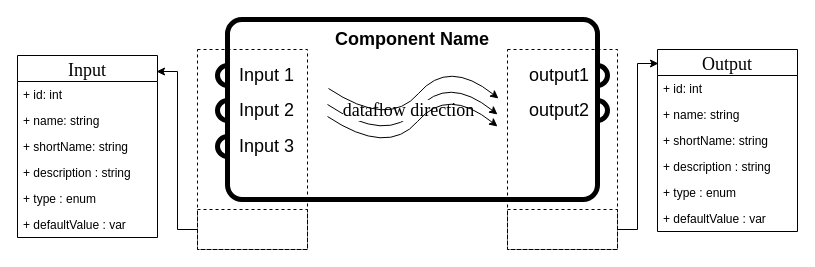
Image size: 815x267. Some labels were removed from this diagram. The shapes that lost their labels are listed below. From the top down, each one's centre as x and y in pixels, then its label:
the point at 252,229: Inputs
the point at 562,229: Outputs
